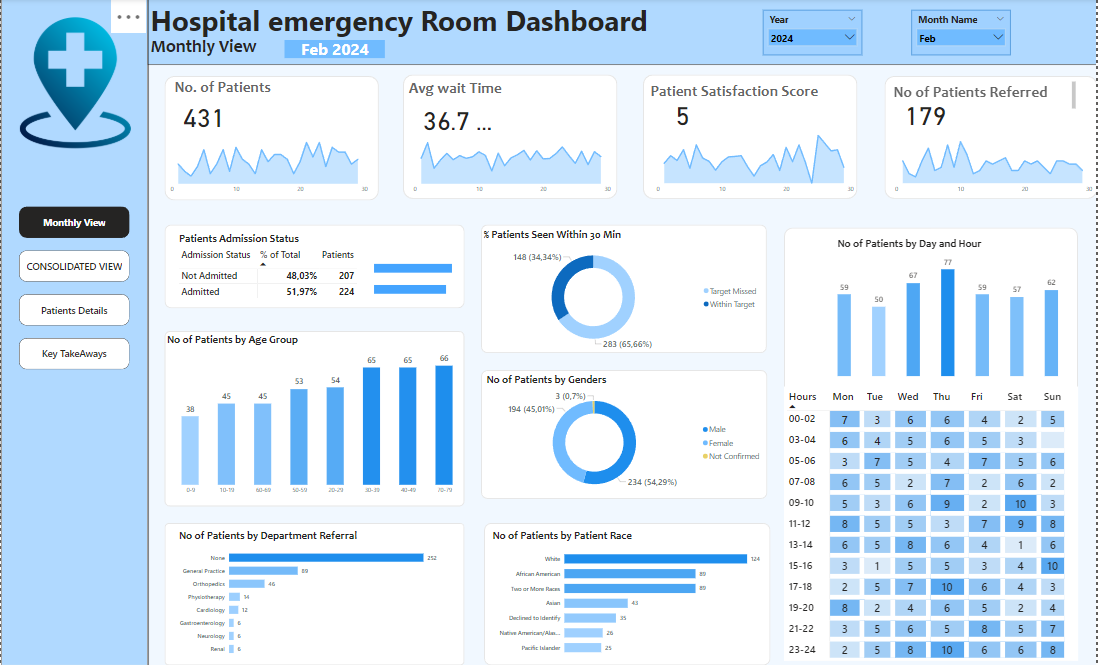

This screenshot's page, from the dashboard's own definition file:
{"tool":"powerbi","page":{"name":"Monthly View","canvas":[2300,1400],"ordinal":0},"visuals":[{"type":"shape","box":[343.2,163.7,450.2,261.3],"z":0},{"type":"shape","box":[0,0,310,1401.1],"z":1000},{"type":"shape","box":[308.6,0,1993,140],"z":2000},{"type":"textbox","box":[308.6,0,1070.5,107],"z":3000},{"type":"textbox","box":[308.6,72.4,251.9,69.3],"z":4000},{"type":"card","fields":{"Values":["Hospital ER_Data.No of Patients"]},"box":[341.1,199.4,170,91.3],"z":5000},{"type":"slicer","fields":{"Values":["Date.Year"]},"box":[1599.4,25.2,207.8,94.5],"z":6000},{"type":"slicer","fields":{"Values":["Date.Month Name"]},"box":[1911.1,25.2,207.8,94.5],"z":7000},{"type":"textbox","box":[360,161.6,226.7,75.6],"z":8000},{"type":"areaChart","fields":{"Category":["Date.Date.Variation.Date Hierarchy.Day"],"Y":["Hospital ER_Data.No of Patients"]},"box":[344.2,275,434.5,144.8],"z":9000},{"type":"card","fields":{"Values":["Min(Date.Month & Year)"]},"box":[595.1,88.2,210.9,37.8],"z":10000},{"type":"shape","box":[1852.9,163.7,447.1,258.2],"z":11000},{"type":"shape","box":[843.8,160.6,450.2,261.3],"z":12000},{"type":"card","fields":{"Values":["Hospital ER_Data.Avg. Wait Time"]},"box":[843.8,204.7,226.7,91.3],"z":13000},{"type":"textbox","box":[843.8,163.7,226.7,75.6],"z":14000},{"type":"areaChart","fields":{"Category":["Date.Date.Variation.Date Hierarchy.Day"],"Y":["Avg(Hospital ER_Data.Patient Waittime)"]},"box":[853.2,273.9,434.5,144.8],"z":15000},{"type":"shape","box":[1347.6,160.6,450.2,261.3],"z":16000},{"type":"textbox","box":[1344.4,170,384.1,75.6],"z":17000},{"type":"areaChart","fields":{"Category":["Date.Date.Variation.Date Hierarchy.Day"],"Y":["Avg(Hospital ER_Data.Patient Satisfaction Score)"]},"box":[1363.3,273.9,434.5,144.8],"z":18000},{"type":"card","fields":{"Values":["Hospital ER_Data.No of Patient Referred"]},"box":[1854.5,195.2,170,91.3],"z":19000},{"type":"areaChart","fields":{"Category":["Date.Date.Variation.Date Hierarchy.Day"],"Y":["Hospital ER_Data.No of Patient Referred"]},"box":[1863.9,273.9,434.5,144.8],"z":20000},{"type":"card","fields":{"Values":["Hospital ER_Data.Satisfaction Score"]},"box":[1344.4,195.2,170,91.3],"z":21000},{"type":"shape","box":[343.2,475.4,629.7,176.3],"z":22000},{"type":"textbox","box":[1854.5,170,406.2,75.6],"z":23000},{"type":"pivotTable","title":"Patients Admission Status","fields":{"Rows":["Hospital ER_Data.Admission Status"],"Values":["Hospital ER_Data.No of Patients","Hospital ER_Data.No of Patients1"]},"box":[368.4,491.2,588.8,144.8],"z":24000},{"type":"barChart","fields":{"Y":["Hospital ER_Data.No of Patients"],"Category":["Hospital ER_Data.Admission Status"]},"box":[777.7,522.7,229.8,129.1],"z":25000},{"type":"shape","box":[343.2,699,629.7,368.4],"z":26000},{"type":"columnChart","fields":{"Category":["Hospital ER_Data.Age Group"],"Y":["Hospital ER_Data.No of Patients"]},"box":[343.2,702.1,642.3,349.5],"z":27000},{"type":"shape","box":[343.2,1102,629.7,299.1],"z":28000},{"type":"clusteredBarChart","fields":{"Category":["Hospital ER_Data.Department Referral"],"Y":["Hospital ER_Data.No of Patients"]},"box":[368.4,1114.6,554.1,277.1],"z":29000},{"type":"shape","box":[1007.5,475.4,600,270],"z":30000},{"type":"donutChart","title":"% Patients Seen Within 30 Min","fields":{"Category":["Hospital ER_Data.Waiting Status"],"Y":["Hospital ER_Data.No of Patients"]},"box":[1007.5,481.7,591.9,264.5],"z":31000},{"type":"shape","box":[1007.5,780.8,601.4,270.8],"z":32000},{"type":"donutChart","title":"No of Patients by Genders","fields":{"Y":["Hospital ER_Data.No of Patients"],"Category":["Hospital ER_Data.Patient Gender"]},"box":[1013.8,787.1,591.9,264.5],"z":33000},{"type":"shape","box":[1013.8,1102,601.4,299.1],"z":34000},{"type":"clusteredBarChart","fields":{"Y":["Hospital ER_Data.No of Patients"],"Category":["Hospital ER_Data.Patient Race"]},"box":[1026.4,1114.6,573,277.1],"z":35000},{"type":"shape","box":[1643.5,481.7,617.1,909.9],"z":36000},{"type":"pivotTable","fields":{"Rows":["Hospital ER_Data.WaitTime Interval"],"Columns":["Date.Day Name"],"Values":["Hospital ER_Data.No of Patients"]},"box":[1643.5,815.5,617.1,576.2],"z":38500},{"type":"columnChart","title":"No of Patients by Day and Hour","fields":{"Category":["Date.Day Name"],"Y":["Hospital ER_Data.No of Patients"]},"box":[1750.6,500.6,475.4,299.1],"z":38501},{"type":"image","box":[12.6,25.2,286.5,305.4],"z":38502},{"type":"pageNavigator","box":[37.8,437.6,233,343.2],"z":38503}]}

Visuals, with their boxes in screenshot pixels (x1, y1, x2, y2), scaled from the page's 2300x1400 canvas onto the 1098x665 screenshot:
shape: left=164, top=78, right=379, bottom=202
shape: left=0, top=0, right=148, bottom=664
shape: left=147, top=0, right=1097, bottom=66
textbox: left=147, top=0, right=658, bottom=51
textbox: left=147, top=34, right=268, bottom=67
card - Hospital ER_Data.No of Patients: left=163, top=95, right=244, bottom=138
slicer - Date.Year: left=764, top=12, right=863, bottom=57
slicer - Date.Month Name: left=912, top=12, right=1012, bottom=57
textbox: left=172, top=77, right=280, bottom=113
areaChart - Date.Date.Variation.Date Hierarchy.Day x Hospital ER_Data.No of Patients: left=164, top=131, right=372, bottom=199
card - Min(Date.Month & Year): left=284, top=42, right=385, bottom=60
shape: left=885, top=78, right=1097, bottom=200
shape: left=403, top=76, right=618, bottom=200
card - Hospital ER_Data.Avg. Wait Time: left=403, top=97, right=511, bottom=141
textbox: left=403, top=78, right=511, bottom=114
areaChart - Date.Date.Variation.Date Hierarchy.Day x Avg(Hospital ER_Data.Patient Waittime): left=407, top=130, right=615, bottom=199
shape: left=643, top=76, right=858, bottom=200
textbox: left=642, top=81, right=825, bottom=117
areaChart - Date.Date.Variation.Date Hierarchy.Day x Avg(Hospital ER_Data.Patient Satisfaction Score): left=651, top=130, right=858, bottom=199
card - Hospital ER_Data.No of Patient Referred: left=885, top=93, right=966, bottom=136
areaChart - Date.Date.Variation.Date Hierarchy.Day x Hospital ER_Data.No of Patient Referred: left=890, top=130, right=1097, bottom=199
card - Hospital ER_Data.Satisfaction Score: left=642, top=93, right=723, bottom=136
shape: left=164, top=226, right=464, bottom=310
textbox: left=885, top=81, right=1079, bottom=117
"Patients Admission Status" pivotTable: left=176, top=233, right=457, bottom=302
barChart - Hospital ER_Data.No of Patients x Hospital ER_Data.Admission Status: left=371, top=248, right=481, bottom=310
shape: left=164, top=332, right=464, bottom=507
columnChart - Hospital ER_Data.Age Group x Hospital ER_Data.No of Patients: left=164, top=333, right=470, bottom=500
shape: left=164, top=523, right=464, bottom=664
clusteredBarChart - Hospital ER_Data.Department Referral x Hospital ER_Data.No of Patients: left=176, top=529, right=440, bottom=661
shape: left=481, top=226, right=767, bottom=354
"% Patients Seen Within 30 Min" donutChart: left=481, top=229, right=764, bottom=354
shape: left=481, top=371, right=768, bottom=500
"No of Patients by Genders" donutChart: left=484, top=374, right=767, bottom=500
shape: left=484, top=523, right=771, bottom=664
clusteredBarChart - Hospital ER_Data.No of Patients x Hospital ER_Data.Patient Race: left=490, top=529, right=764, bottom=661
shape: left=785, top=229, right=1079, bottom=661
pivotTable - Hospital ER_Data.WaitTime Interval x Date.Day Name: left=785, top=387, right=1079, bottom=661
"No of Patients by Day and Hour" columnChart: left=836, top=238, right=1063, bottom=380
image: left=6, top=12, right=143, bottom=157
pageNavigator: left=18, top=208, right=129, bottom=371
